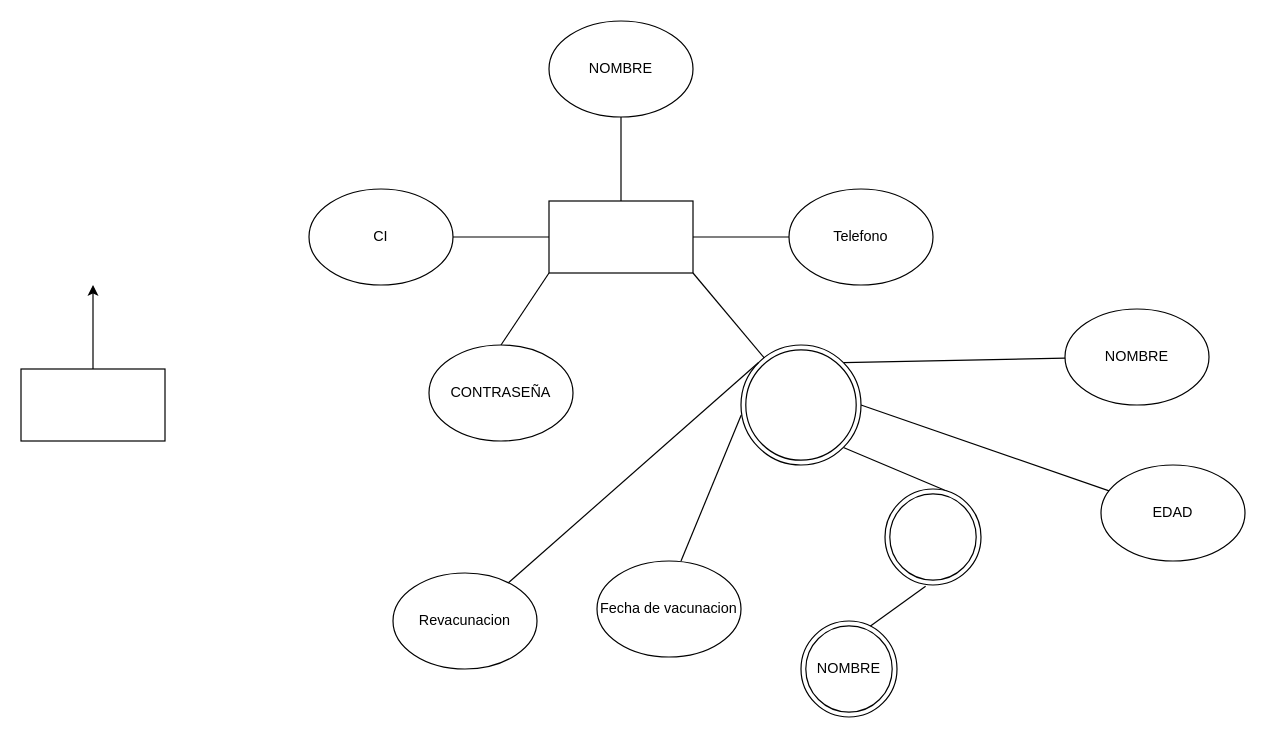
This 1266x738 diagram has some shape labels left out. Each missing label, with the box of its shape:
MASCOTA: (740, 344, 861, 465)
USUARIO: (548, 200, 693, 273)
vacuna: (20, 368, 165, 441)
VACUNAS: (884, 488, 981, 585)
